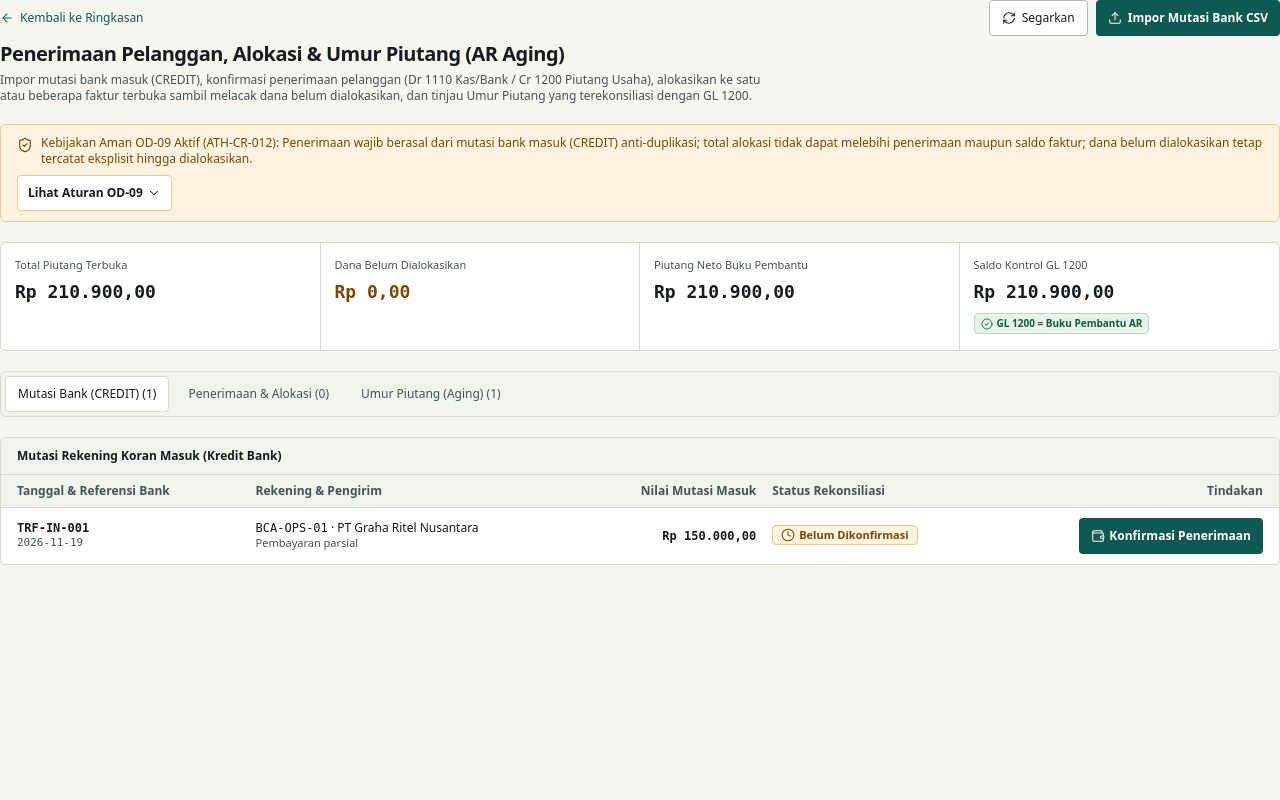
S15 Customer Receipts, Allocation & AR Aging UI › displays GL 1200 reconciled proof badge and computes live Received / Allocated / Unapplied totals
Check: the element with id "ar-gl-reconciled-badge" is shown, box top-left (974, 313), bottom-right (1149, 334)
Click the button with test id "confirm-bank-TRF-IN-001". click: (1171, 536)
box: top-left (1079, 518), bottom-right (1263, 554)
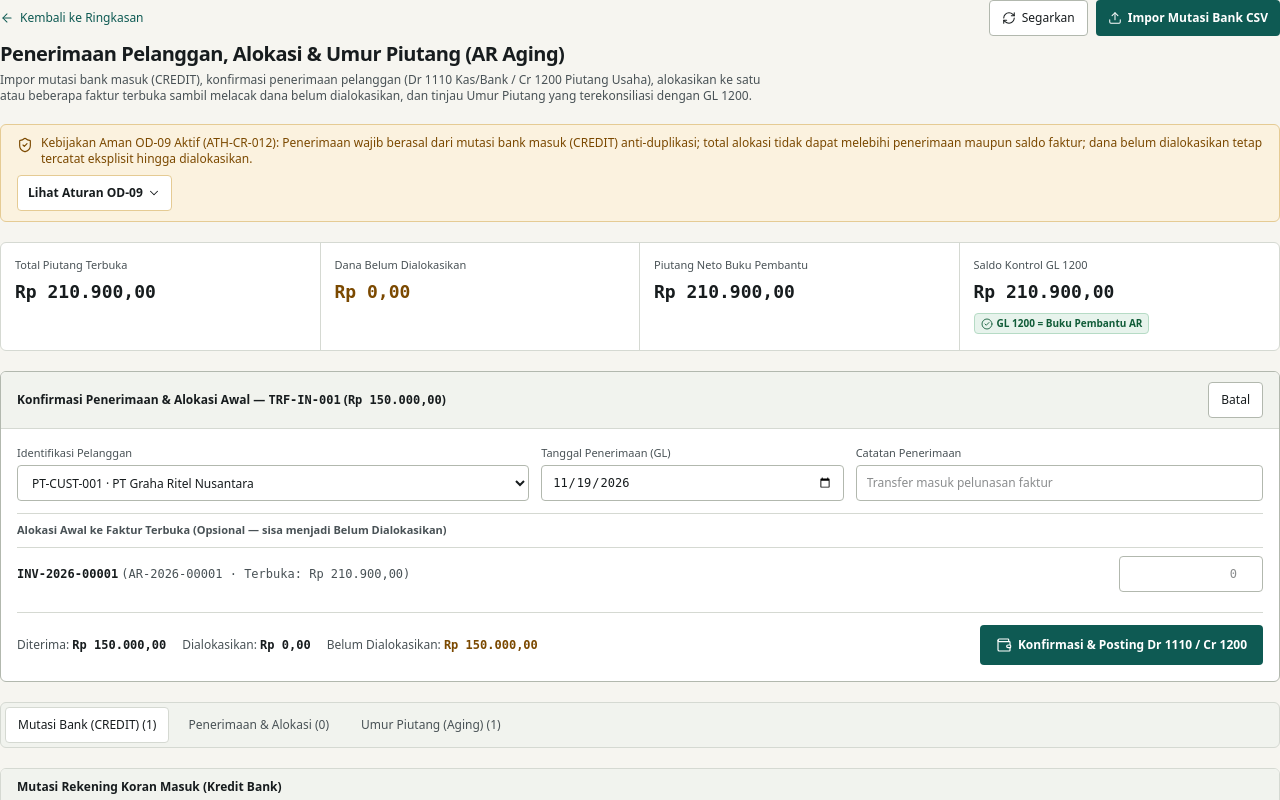
Check: the element with id "ar-confirm-drawer" is shown, box top-left (0, 370), bottom-right (1279, 682)
Type "100000" into the number field with id "ar-init-alloc-0". click: (1191, 574)
box: top-left (1119, 556), bottom-right (1263, 592)
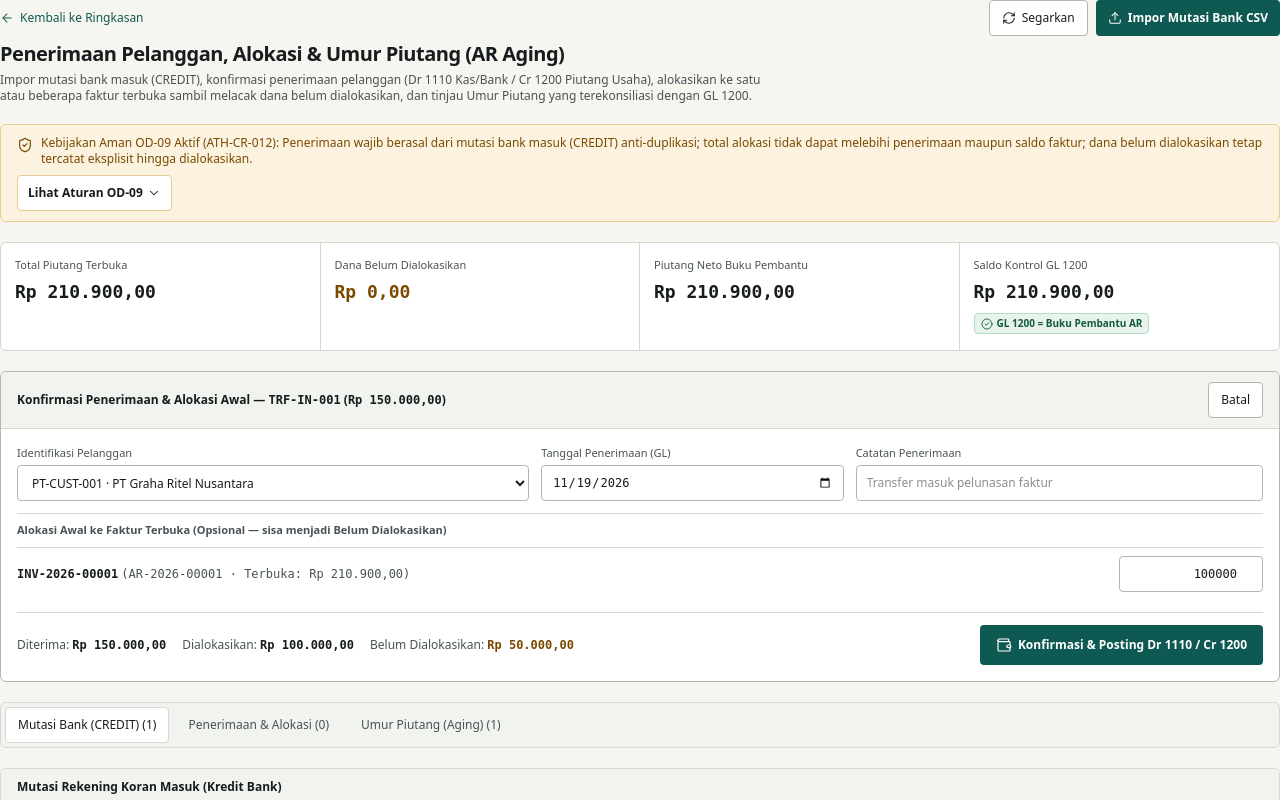
Check: the element with id "ar-confirm-drawer" shows "50.000", box top-left (487, 638), bottom-right (574, 652)
Check: the element with id "ar-confirm-drawer" shows "100.000", box top-left (260, 638), bottom-right (354, 652)
